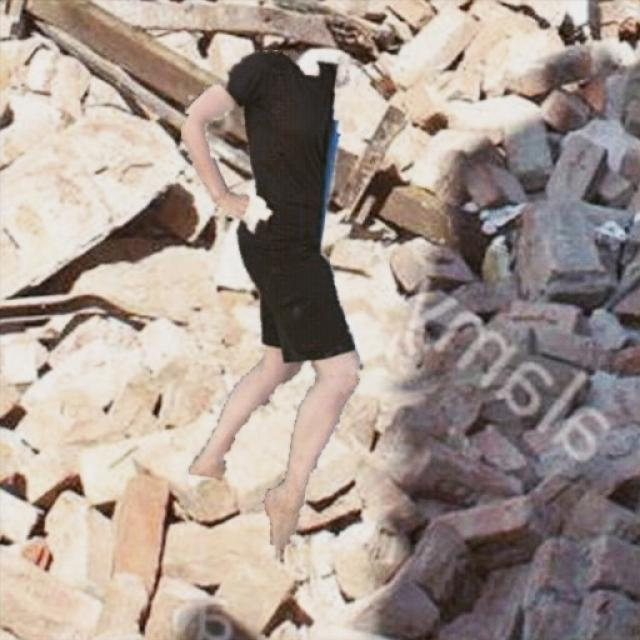Person in Rubble: (181, 50, 361, 549)
